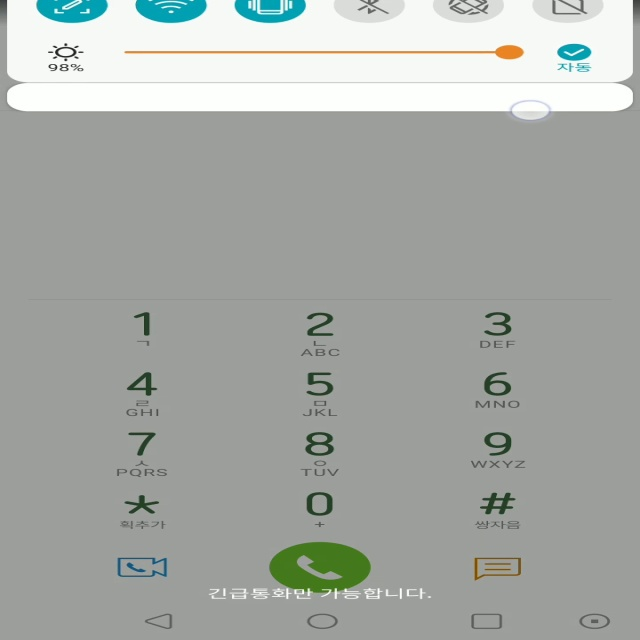Cursor: (509, 100, 553, 122)
